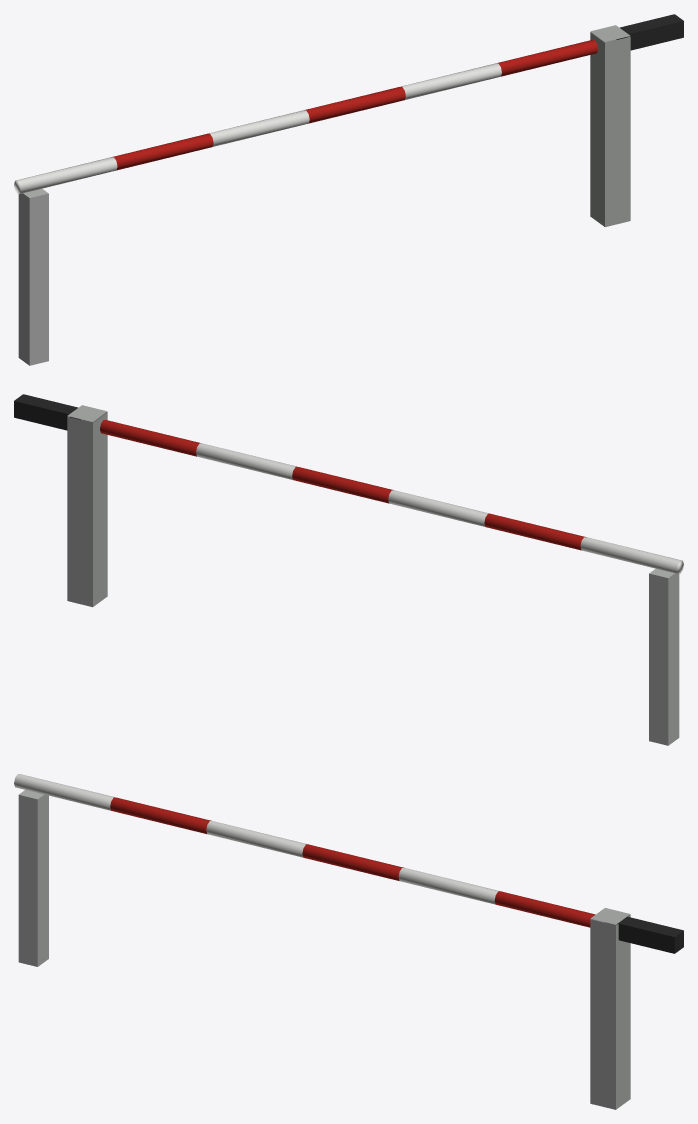
File: boundary.gate.lift_barrier.glb
3 views of the same model, one above another, from view 1: azimuth 30°, elevation 25°; view 2: azimuth 150°, elevation 25°; view 3: azimuth 330°, elevation 25° (orthographic).
Parts seen in each view (by area): view 1: main__concrete_aaa, main__concrete_bbb, main__timber_ddd, main__timber_a21, main__galv_222; view 2: main__concrete_aaa, main__concrete_bbb, main__timber_ddd, main__timber_a21, main__galv_222; view 3: main__concrete_aaa, main__concrete_bbb, main__timber_ddd, main__timber_a21, main__galv_222.
Part boxes in pixels (<box>): main__concrete_aaa: <box>590,25,630,227</box>; main__concrete_bbb: <box>18,188,48,365</box>; main__timber_ddd: <box>14,63,501,193</box>; main__timber_a21: <box>111,40,597,170</box>; main__galv_222: <box>617,14,683,50</box>; main__concrete_aaa: <box>67,405,107,607</box>; main__concrete_bbb: <box>649,568,679,745</box>; main__timber_ddd: <box>196,443,683,573</box>; main__timber_a21: <box>100,420,586,550</box>; main__galv_222: <box>14,394,80,430</box>; main__concrete_aaa: <box>590,908,630,1109</box>; main__concrete_bbb: <box>18,790,48,966</box>; main__timber_ddd: <box>14,774,499,904</box>; main__timber_a21: <box>110,797,595,927</box>; main__galv_222: <box>617,916,683,953</box>.
Size of the model in its own units: 4.13 by 1.1 by 0.16.
